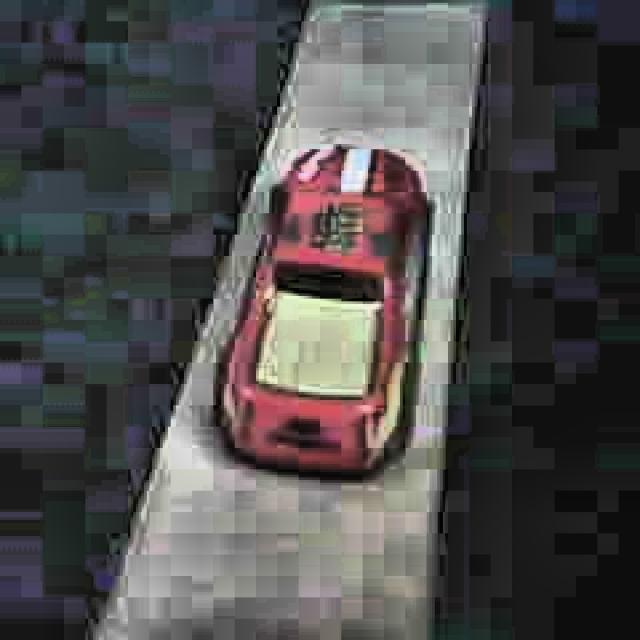car: (209, 140, 436, 485)
